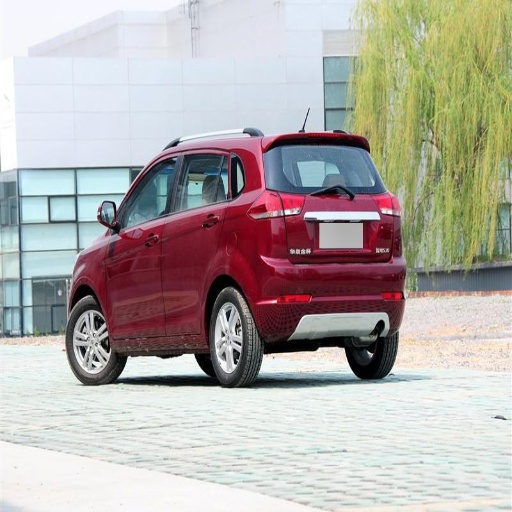back_bumper: (256, 257, 400, 340)
back_glass: (266, 141, 378, 191)
trunk: (283, 191, 391, 298)
